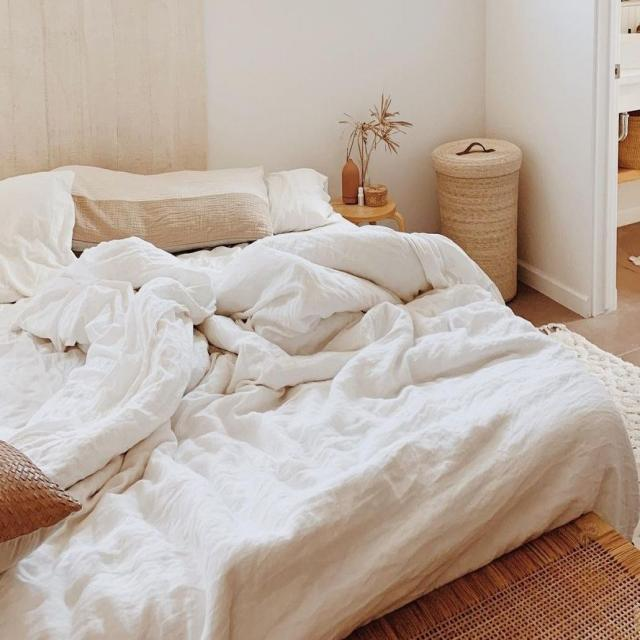bed: (0, 159, 623, 640)
